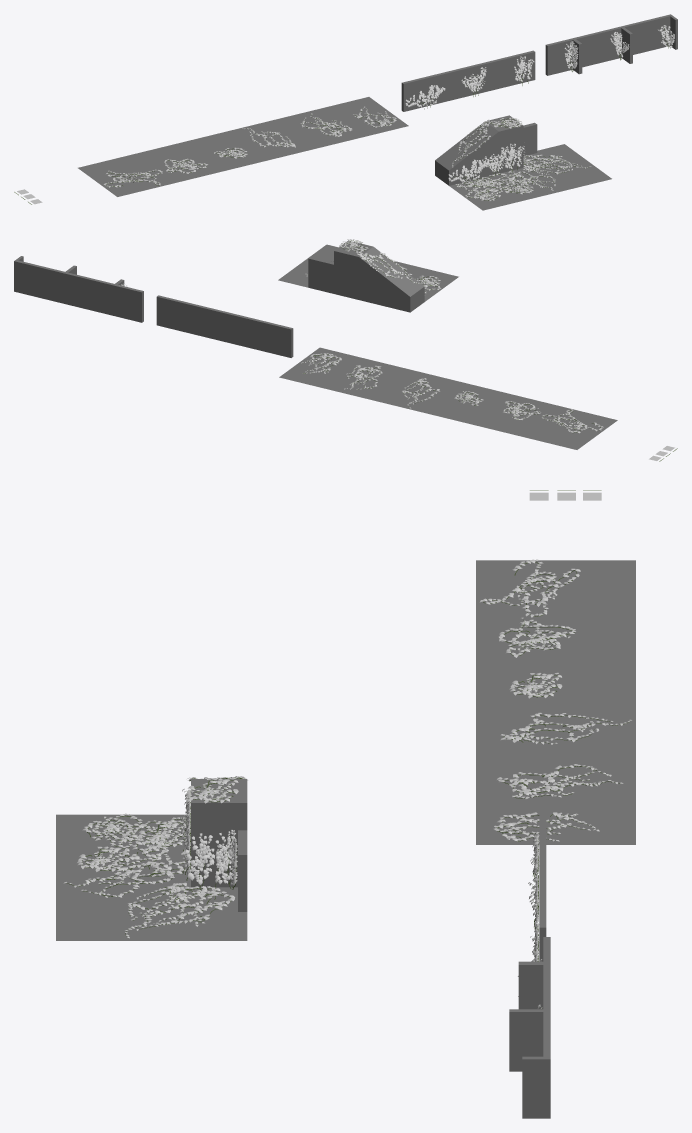
The model's file is ivy.fbx.
3 views of the same model, one above another, from view 1: azimuth 30°, elevation 25°; view 2: azimuth 150°, elevation 25°; view 3: azimuth 270°, elevation 25° (orthographic). The views are drawn at different scales.
Parts seen in each view (by area): view 1: Filler, Scene walls, Ivy_ground_3_LOD0.003, Ivy_ground_1_LOD0, Ivy_wall_1_LOD0, Ivy_ground_direct_2_LOD0, Ivy_ground_2_LOD0, Ivy_wall_2_LOD0, Ivy_wall_3_LOD0, Ivy_ground_direct_1_LOD0; view 2: Filler, Scene walls, Ivy_ground_3_LOD0.003, Ivy_ground_1_LOD0, Ivy_ground_direct_2_LOD0, Ivy_ground_direct_3_LOD0, Ivy_ground_2_LOD0; view 3: Filler, Scene walls, Ivy_ground_3_LOD0.003, Ivy_ground_1_LOD0, Ivy_ground_direct_2_LOD0, Ivy_ground_2_LOD0, Ivy_ground_direct_1_LOD0, Ivy_ground_direct_3_LOD0.
Part boxes in pixels (x1,y1,x2,y2): Filler: (78, 14, 677, 196); Scene walls: (435, 115, 611, 210); Ivy_ground_3_LOD0.003: (448, 117, 591, 200); Ivy_ground_1_LOD0: (103, 169, 162, 187); Ivy_wall_1_LOD0: (405, 85, 445, 109); Ivy_ground_direct_2_LOD0: (300, 113, 352, 136); Ivy_ground_2_LOD0: (164, 158, 207, 173); Ivy_wall_2_LOD0: (461, 67, 486, 96); Ivy_wall_3_LOD0: (514, 56, 534, 85); Ivy_ground_direct_1_LOD0: (242, 128, 295, 147); Filler: (14, 256, 617, 449); Scene walls: (278, 240, 458, 312); Ivy_ground_3_LOD0.003: (305, 239, 440, 293); Ivy_ground_1_LOD0: (542, 409, 603, 433); Ivy_ground_direct_2_LOD0: (344, 365, 382, 389); Ivy_ground_direct_3_LOD0: (301, 353, 341, 373); Ivy_ground_2_LOD0: (503, 401, 540, 419); Filler: (476, 560, 635, 1118); Scene walls: (56, 779, 247, 940); Ivy_ground_3_LOD0.003: (63, 776, 247, 938); Ivy_ground_1_LOD0: (479, 559, 580, 617); Ivy_ground_direct_2_LOD0: (497, 764, 623, 798); Ivy_ground_2_LOD0: (499, 617, 575, 657); Ivy_ground_direct_1_LOD0: (500, 712, 631, 744); Ivy_ground_direct_3_LOD0: (494, 812, 599, 841).
Size of what is drawn, in the model's own units: 7934 by 543 by 3095.
